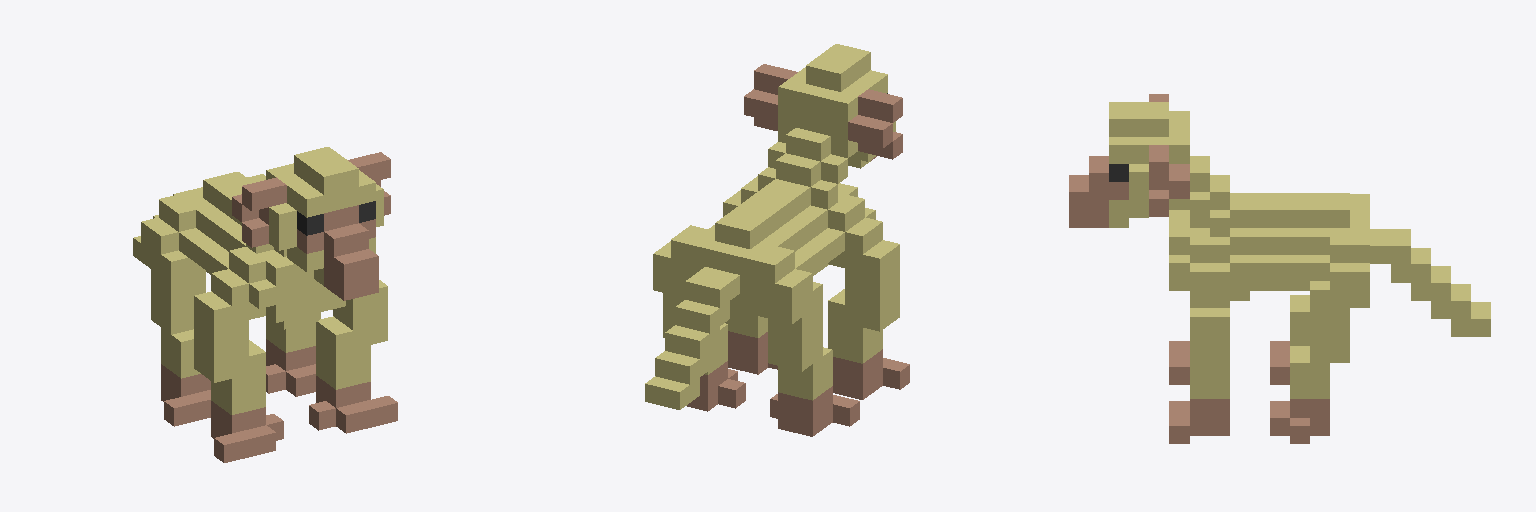
3 views of the same model, side by side, from view 1: azimuth 30°, elevation 25°; view 2: azimuth 150°, elevation 25°; view 3: azimuth 270°, elevation 25° (orthographic).
Visible parts, largest first — view 1: object 1; view 2: object 1; view 3: object 1.
Part boxes in pixels (bbox=[...]): object 1: bbox=[133, 147, 397, 462]; object 1: bbox=[645, 44, 909, 436]; object 1: bbox=[1069, 94, 1490, 443].
Bounding box in the file's own units: 1 × 1.6 × 2.1.
1 materials, 1 textured.